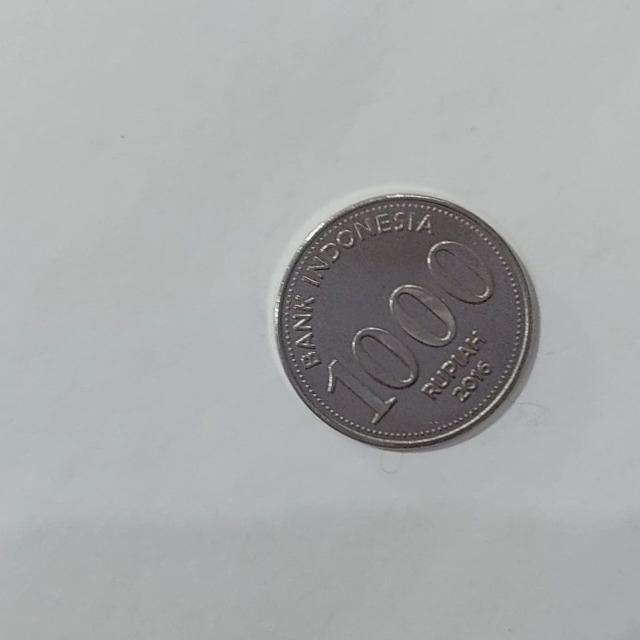Rp100: (272, 189, 538, 452)
